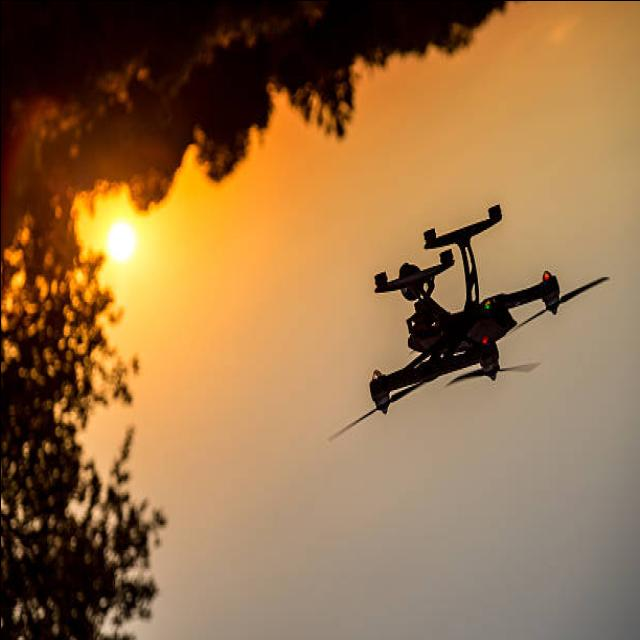drone: (328, 202, 610, 444)
